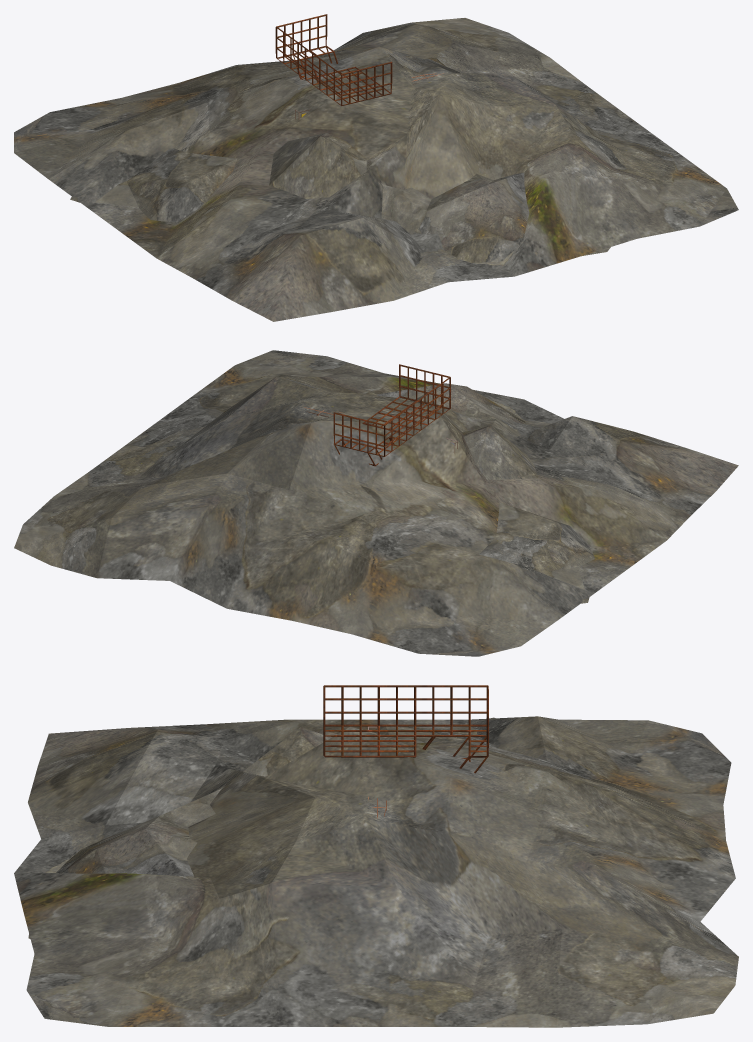
File: wreckage_2.glb
The picture shows the model from 3 angles, top to bottom: view 1: azimuth 30°, elevation 25°; view 2: azimuth 150°, elevation 25°; view 3: azimuth 270°, elevation 25°; orthographic projection. The views are drawn at different scales.
Visible parts, largest first — view 1: Wreckage 2, Wreckage 3, FireStairs; view 2: Wreckage 2, Wreckage 3, FireStairs; view 3: Wreckage 2, Wreckage 3, FireStairs.
Part boxes in pixels (x1,y1,x2,y2): Wreckage 2: (14,18,738,321); Wreckage 3: (70,132,610,262); FireStairs: (275,14,392,105); Wreckage 2: (14,350,738,656); Wreckage 3: (377,383,594,603); FireStairs: (333,364,450,466); Wreckage 2: (14,716,738,1027); Wreckage 3: (28,717,496,938); FireStairs: (323,685,488,773).
Bounding box in the file's own units: 20.22 × 4.91 × 19.94.
Materials: 3 (3 with a texture image).
